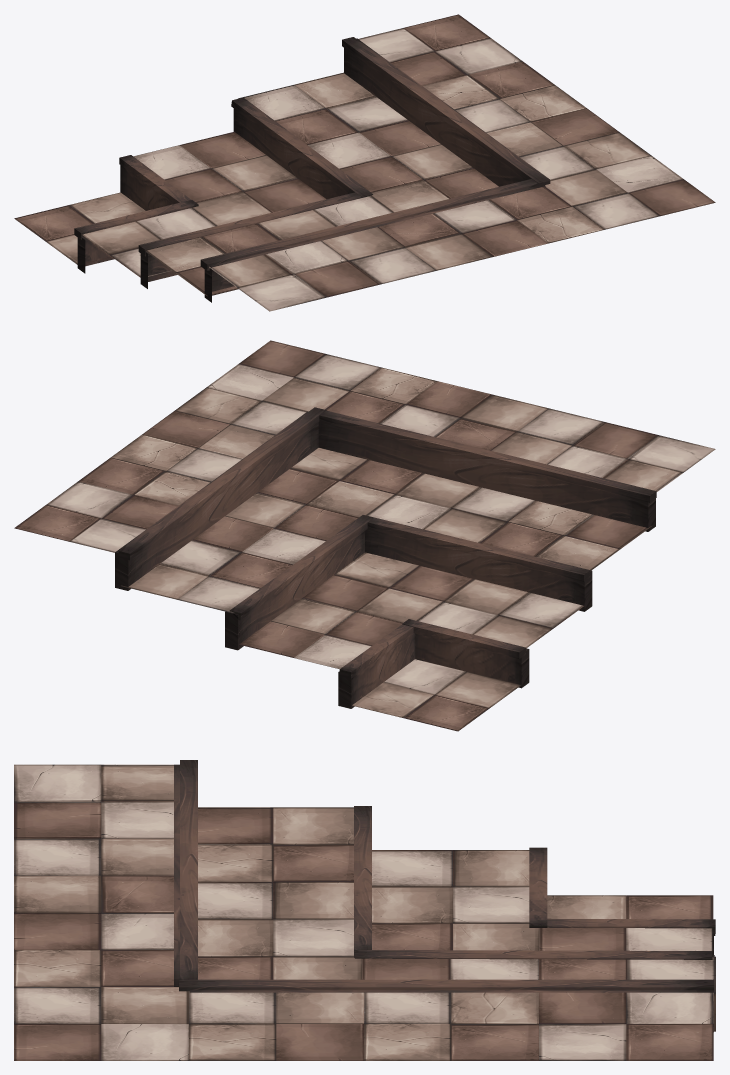
File: Corner3.fbx
The picture shows the model from 3 angles, top to bottom: view 1: azimuth 30°, elevation 25°; view 2: azimuth 150°, elevation 25°; view 3: azimuth 270°, elevation 25°; orthographic projection. The views are drawn at different scales.
Parts seen in each view (by area): view 1: pPlane9; view 2: pPlane9; view 3: pPlane9.
Boxes of the visible parts, x1=… form: pPlane9: x1=14, y1=14, x2=715, y2=311; pPlane9: x1=14, y1=340, x2=715, y2=731; pPlane9: x1=14, y1=760, x2=715, y2=1060.
Size of the model in its own units: 0.6057 by 0.1314 by 0.6046.
